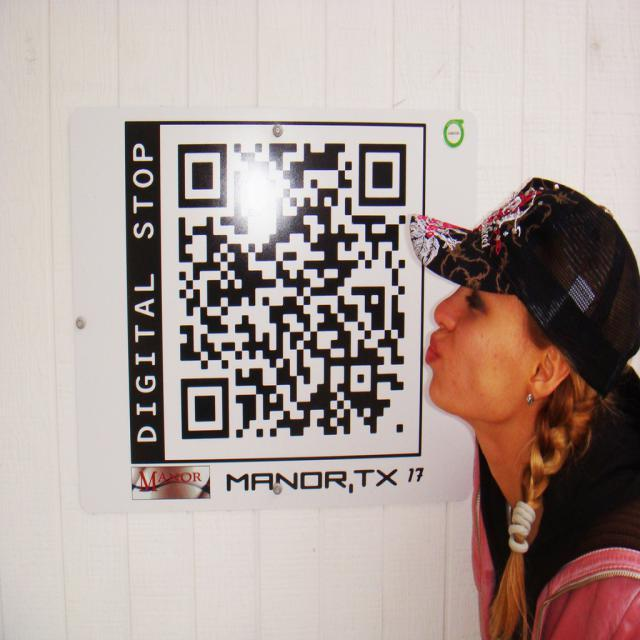qrcode: (179, 145, 407, 440)
